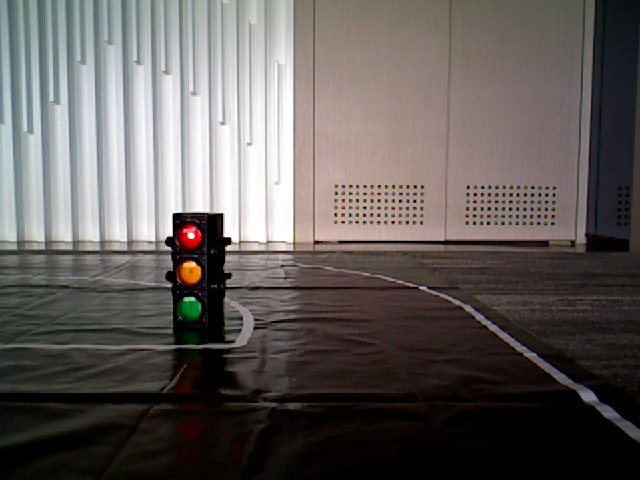red: (174, 217, 213, 327)
